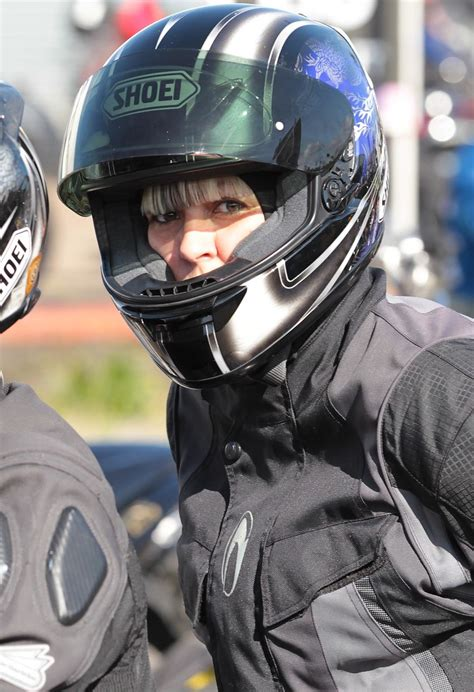com_capacete: (55, 2, 392, 392)
